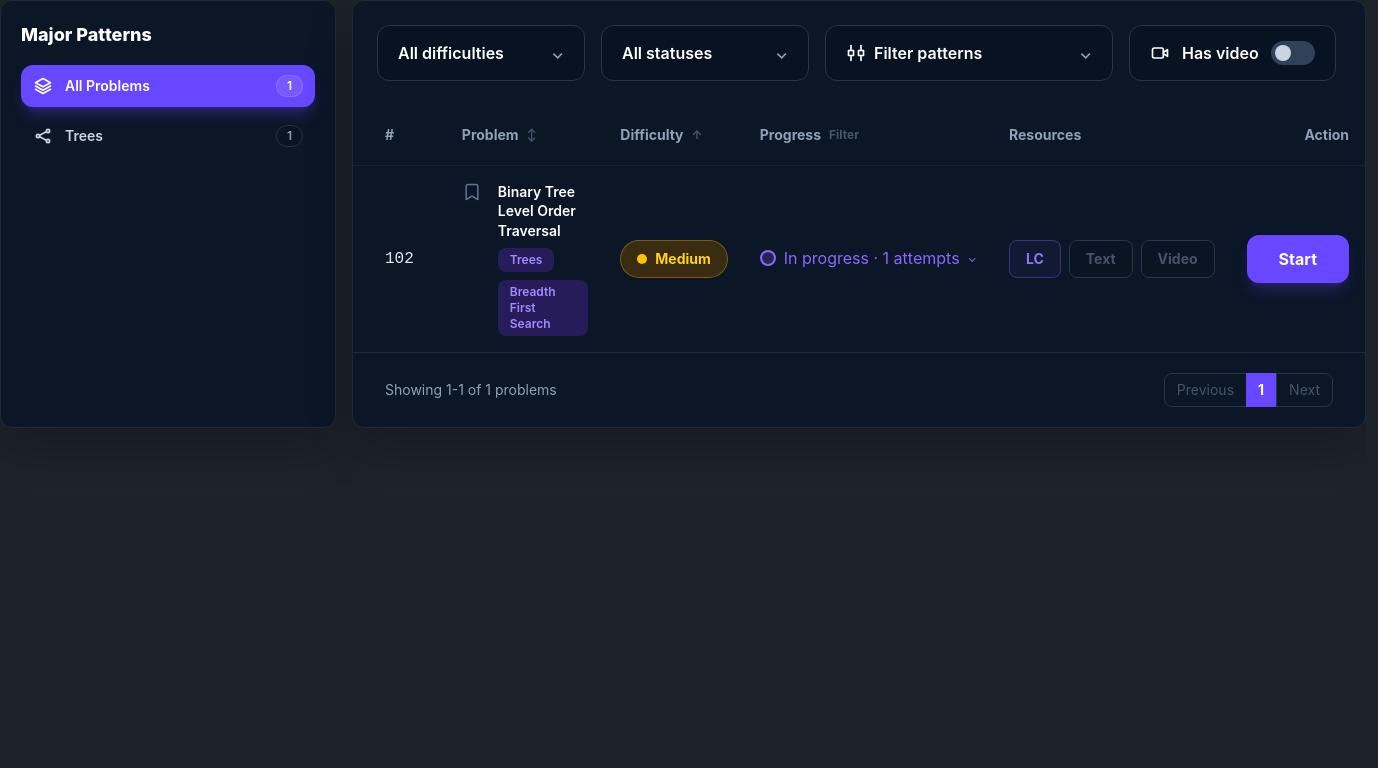
Test case: LeetcodePracticeProgressClient › displays locally saved timed-out attempts as time ran out
The image size is (1378, 768).
Click the button "In progress · 1 attempts ⌄". click: (868, 258)
box: [760,246,977,270]
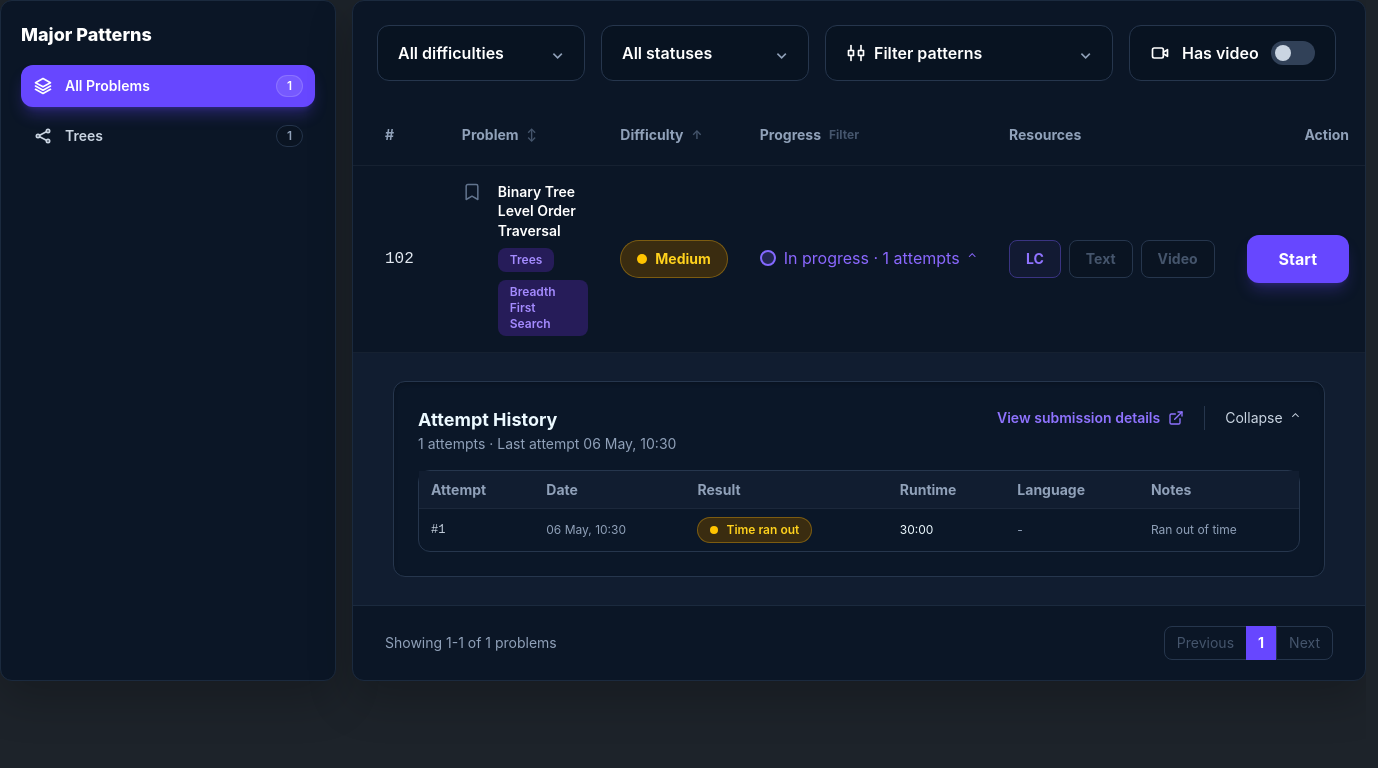
Now the text "Time ran out" is shown, box [698,517,812,543]
